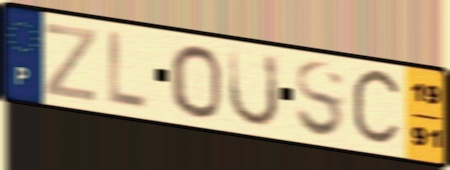C: (349, 66, 406, 151)
L: (105, 28, 149, 114)
O: (167, 42, 225, 121)
S: (293, 59, 347, 143)
U: (226, 46, 282, 129)
Z: (42, 21, 98, 105)
